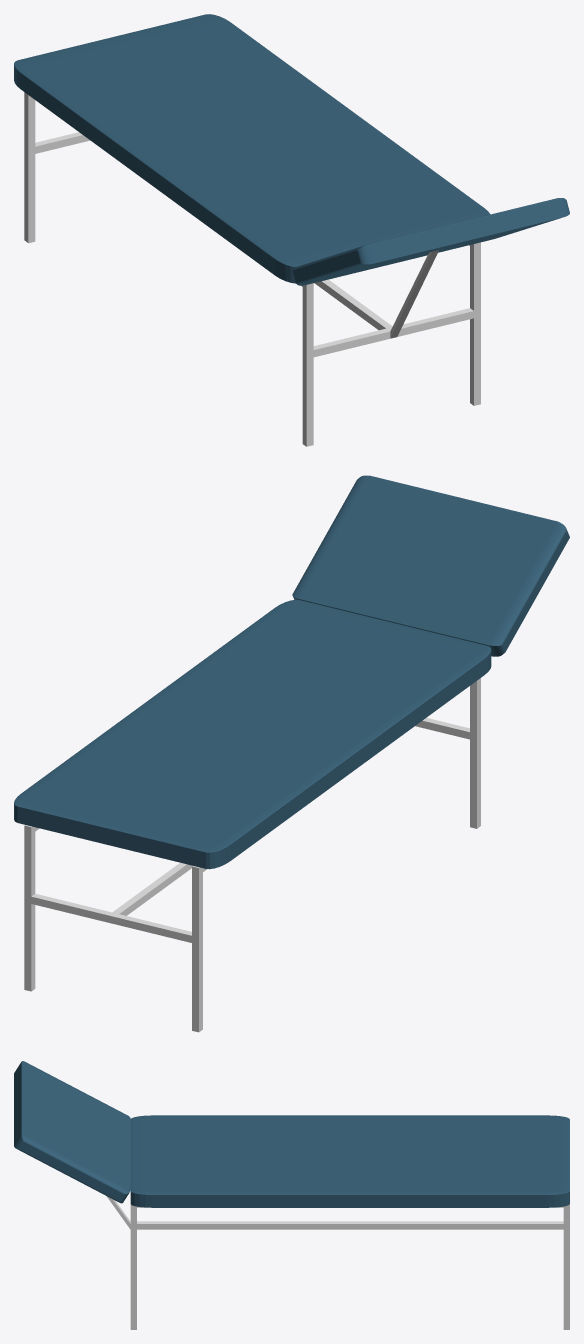
3 renders of one model, top to bottom at view 1: azimuth 30°, elevation 25°; view 2: azimuth 150°, elevation 25°; view 3: azimuth 270°, elevation 25°, orthographic. The views are drawn at different scales.
Parts seen in each view (by area): view 1: medical_couch; view 2: medical_couch; view 3: medical_couch.
Boxes of the visible parts, x1,y1,x2,y2 form: medical_couch: (14,14,569,446); medical_couch: (14,475,569,1032); medical_couch: (14,1061,569,1329).
Bounding box in the file's own units: 0.6 × 1.77 × 0.6986.
